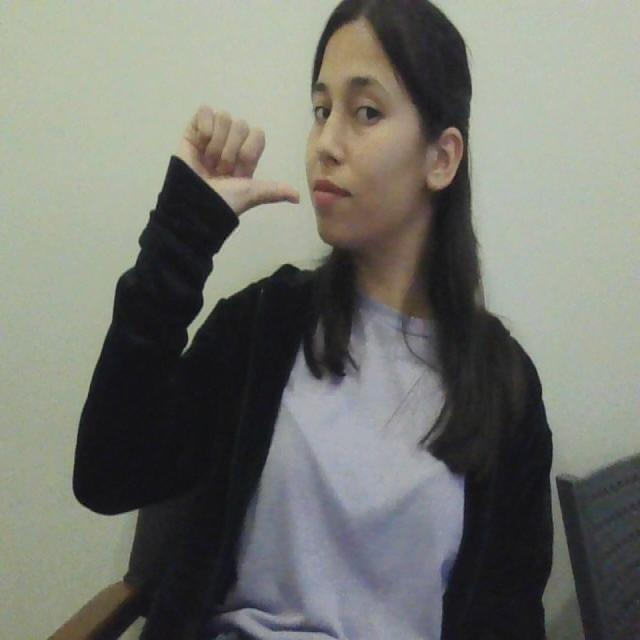icmek: (142, 103, 329, 242)
